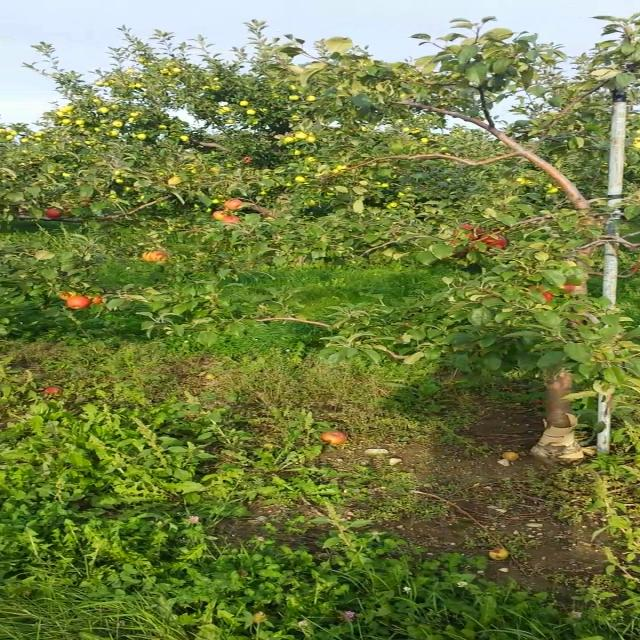apple: (453, 223, 482, 239), (64, 296, 90, 310), (486, 236, 508, 248), (141, 251, 167, 261), (223, 200, 241, 209), (46, 208, 62, 218), (57, 292, 77, 300), (86, 294, 102, 304), (538, 291, 554, 301), (212, 210, 226, 220), (561, 283, 574, 293), (228, 216, 240, 222)
